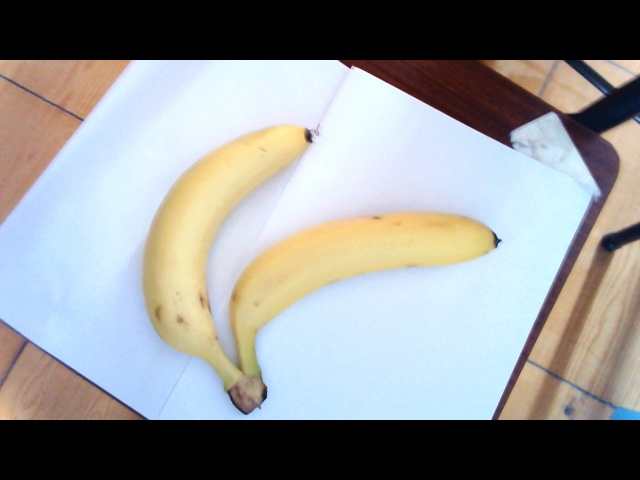banana: (130, 136, 495, 384)
